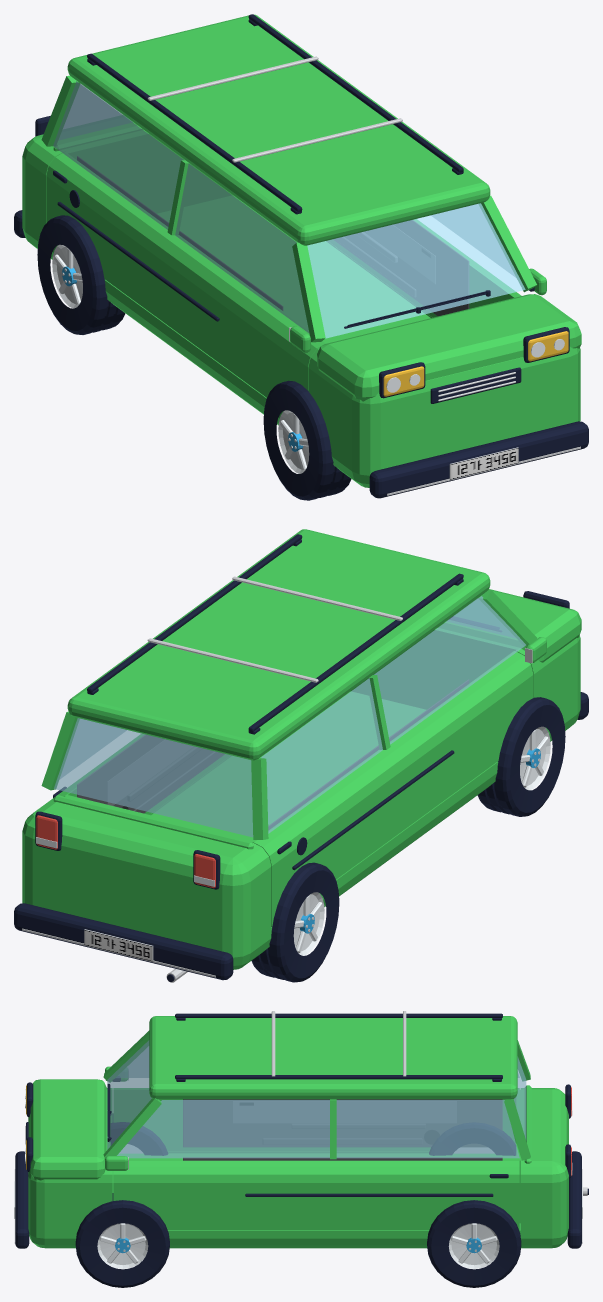
The model's file is V04_minivan_v2.glb.
The picture shows the model from 3 angles, top to bottom: view 1: azimuth 30°, elevation 25°; view 2: azimuth 150°, elevation 25°; view 3: azimuth 270°, elevation 25°; orthographic projection. The views are drawn at different scales.
Visible parts, largest first — view 1: Body, Glass, Door_R, DoorDetail_L, Wheel_FR, Wheel_RR, Bumper_Front, RoofRack, Trunk, Door_L, Grille, Headlight_-1 (+3 smaller); view 2: Body, Door_R, Glass, Trunk, Wheel_RR, Wheel_FR, DoorDetail_L, Bumper_Rear, RoofRack, LicensePlate_Rear, DoorDetail_R, Taillight_1 (+2 smaller); view 3: Body, Door_L, Glass, DoorDetail_R, Wheel_FL, Wheel_RL, Door_R, RoofRack, Wheel_RR, DoorDetail_L, Bumper_Front, Bumper_Rear (+2 smaller).
Part boxes in pixels (x1,y1,x2,y2): Body: [22, 14, 581, 487]; Glass: [53, 81, 525, 338]; Door_R: [46, 152, 326, 397]; DoorDetail_L: [333, 220, 469, 316]; Wheel_FR: [263, 380, 351, 500]; Wheel_RR: [37, 215, 125, 334]; Bumper_Front: [369, 421, 588, 498]; RoofRack: [87, 14, 463, 214]; Trunk: [53, 84, 143, 151]; Door_L: [328, 219, 521, 317]; Grille: [430, 367, 521, 403]; Headlight_-1: [379, 362, 425, 398]; Body: [22, 529, 581, 969]; Door_R: [252, 644, 533, 926]; Glass: [60, 596, 525, 833]; Trunk: [53, 718, 253, 849]; Wheel_RR: [251, 862, 339, 982]; Wheel_FR: [477, 697, 565, 816]; DoorDetail_L: [53, 734, 224, 813]; Bumper_Rear: [14, 903, 233, 980]; RoofRack: [87, 534, 463, 734]; LicensePlate_Rear: [84, 929, 153, 961]; DoorDetail_R: [268, 679, 468, 854]; Taillight_1: [35, 811, 62, 850]; Body: [28, 1016, 568, 1248]; Door_L: [113, 1160, 519, 1229]; Glass: [107, 1040, 519, 1158]; DoorDetail_R: [183, 1099, 502, 1146]; Wheel_FL: [75, 1193, 169, 1287]; Wheel_RL: [427, 1200, 521, 1287]; Door_R: [113, 1088, 519, 1151]; RoofRack: [175, 1011, 502, 1081]; Wheel_RR: [429, 1122, 515, 1155]; DoorDetail_L: [183, 1157, 508, 1178]; Bumper_Front: [14, 1151, 29, 1248]; Bumper_Rear: [567, 1151, 582, 1248].
Size of the model in its own units: 1.87 by 1.87 by 4.87.
12 materials, 1 textured.
